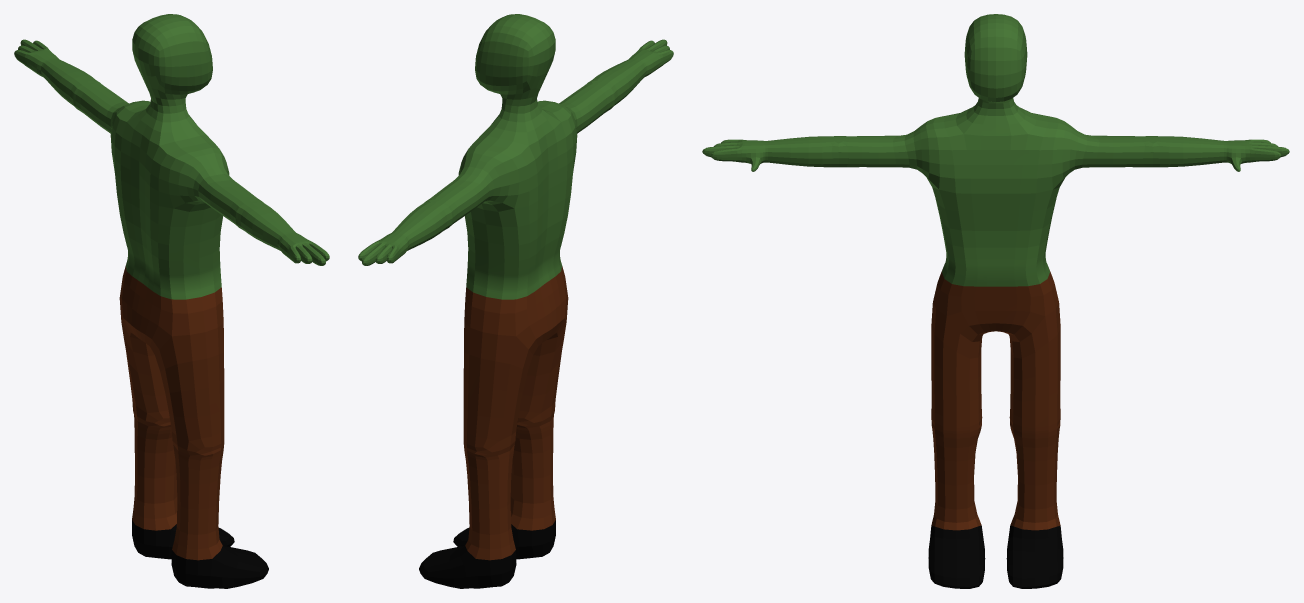
The model's file is zombiegreenT.fbx.
3 renders of one model, left to right at view 1: azimuth 30°, elevation 25°; view 2: azimuth 150°, elevation 25°; view 3: azimuth 270°, elevation 25°, orthographic. The views are drawn at different scales.
Parts seen in each view (by area): view 1: Cube.001; view 2: Cube.001; view 3: Cube.001.
Boxes of the visible parts, x1,y1,x2,y2 form: Cube.001: [14, 14, 329, 588]; Cube.001: [358, 14, 673, 588]; Cube.001: [702, 14, 1289, 588].
Size of the model in its own units: 443 by 2093 by 2074.
